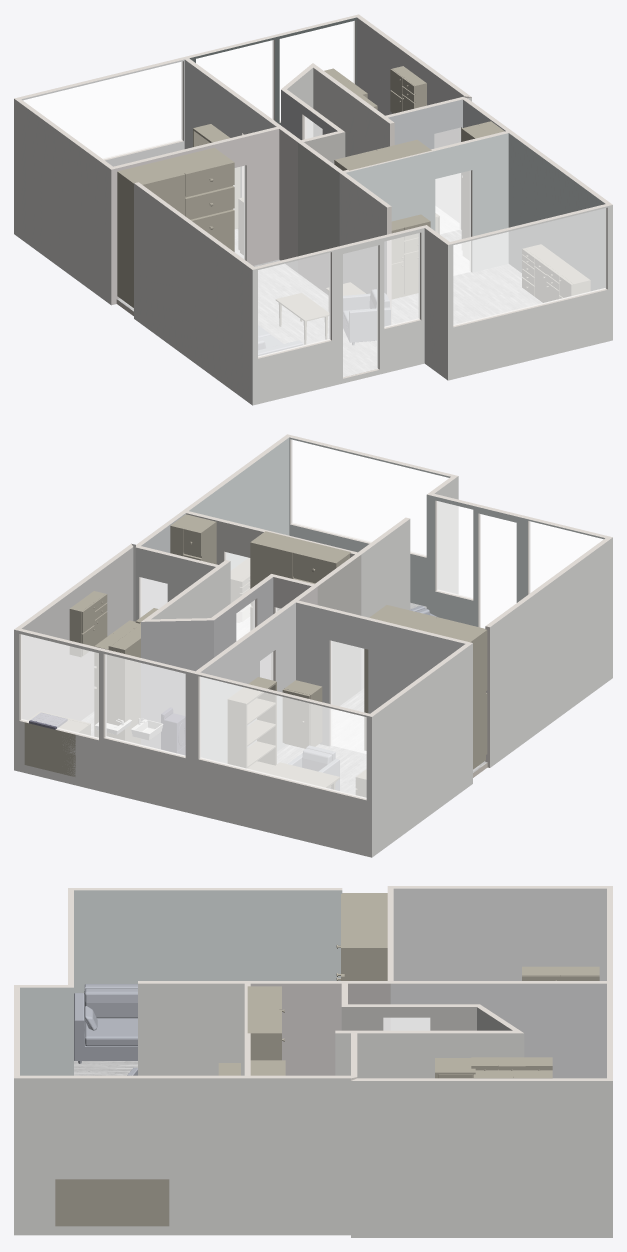
3 views of the same model, one above another, from view 1: azimuth 30°, elevation 25°; view 2: azimuth 150°, elevation 25°; view 3: azimuth 270°, elevation 25° (orthographic). The views are drawn at different scales.
Visible parts, largest first — view 1: wall_9, wall_20, window_3, window_9, wall_0, wall_4, window_5, wall_2, window_11, wall_51, storage_cabinet_tall23, window_2 (+48 smaller); view 2: wall_9, wall_20, window_5, window_11, wall_8, window_3, window_9, wall_12, wall_3, wall_37, window_1, window_7 (+50 smaller); view 3: wall_7, wall_14, wall_41, wall_63, wall_19, wall_21, wall_17, wall_18, storage_cabinet_mid40, wall_16, sofa_rect0, wall_67 (+25 smaller).
Part boxes in pixels (x1=…): wall_9: x1=134, y1=183, x2=252, y2=405; wall_20: x1=14, y1=99, x2=111, y2=304; window_3: x1=453, y1=208, x2=605, y2=325; window_9: x1=453, y1=208, x2=605, y2=325; wall_0: x1=448, y1=205, x2=612, y2=380; wall_4: x1=346, y1=133, x2=508, y2=272; window_5: x1=23, y1=62, x2=182, y2=159; wall_2: x1=252, y1=228, x2=424, y2=405; window_11: x1=24, y1=62, x2=182, y2=158; wall_51: x1=508, y1=133, x2=605, y2=290; storage_cabinet_tall23: x1=117, y1=147, x2=234, y2=307; window_2: x1=258, y1=253, x2=330, y2=356; wall_9: x1=490, y1=537, x2=612, y2=767; wall_20: x1=372, y1=643, x2=472, y2=857; window_5: x1=200, y1=677, x2=366, y2=798; window_11: x1=200, y1=677, x2=366, y2=798; wall_8: x1=195, y1=674, x2=371, y2=857; window_3: x1=291, y1=440, x2=448, y2=555; window_9: x1=291, y1=440, x2=448, y2=555; wall_12: x1=14, y1=629, x2=195, y2=814; wall_3: x1=296, y1=602, x2=464, y2=745; wall_37: x1=22, y1=547, x2=133, y2=720; window_1: x1=105, y1=654, x2=185, y2=756; window_7: x1=105, y1=655, x2=185, y2=755; wall_7: x1=351, y1=1081, x2=612, y2=1237; wall_14: x1=14, y1=1078, x2=247, y2=1235; wall_41: x1=74, y1=890, x2=342, y2=993; wall_63: x1=393, y1=888, x2=606, y2=980; wall_19: x1=247, y1=1078, x2=350, y2=1235; wall_21: x1=390, y1=983, x2=606, y2=1078; wall_17: x1=138, y1=983, x2=244, y2=1075; wall_18: x1=357, y1=1033, x2=524, y2=1078; storage_cabinet_mid40: x1=55, y1=1179, x2=169, y2=1226; wall_16: x1=250, y1=983, x2=341, y2=1075; sofa_rect0: x1=74, y1=984, x2=137, y2=1063; wall_67: x1=20, y1=987, x2=73, y2=1075.
Size of the model in its own units: 7.56 by 2.84 by 9.82.
Materials: 85 (7 with a texture image).
